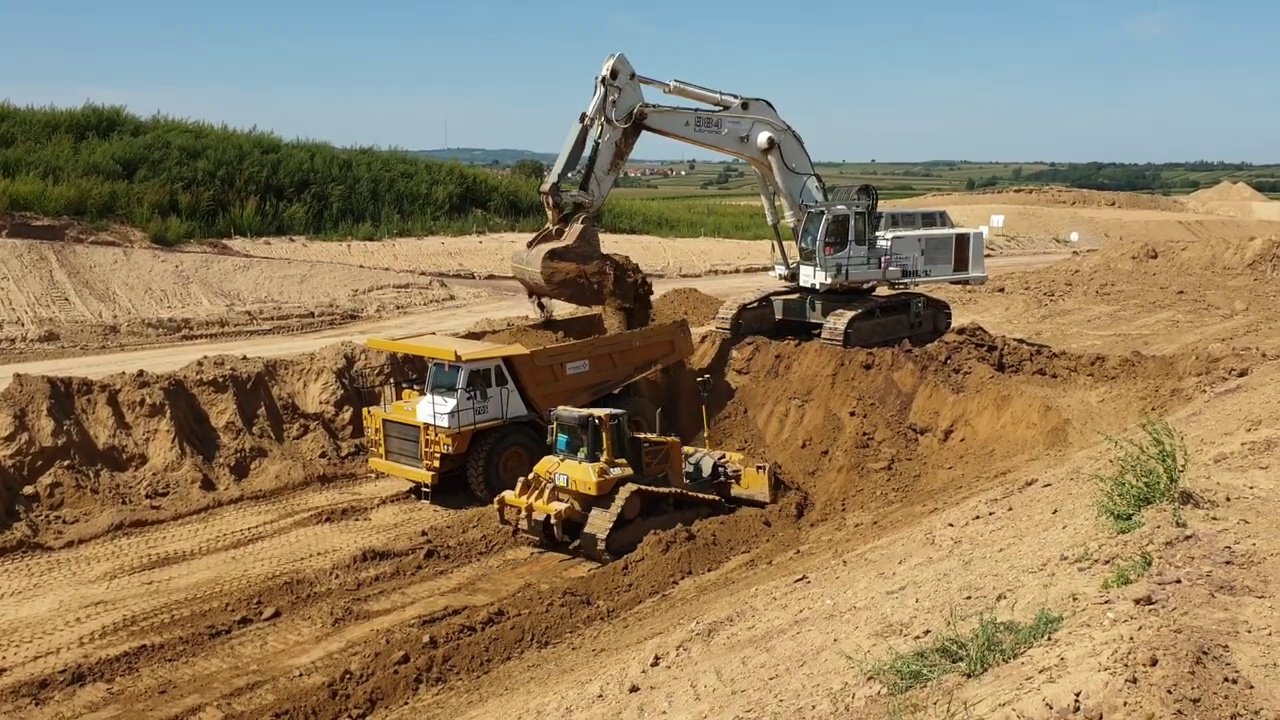bulldozer: (493, 405, 787, 563)
dumper: (354, 310, 696, 506)
excavator: (513, 51, 991, 357)
